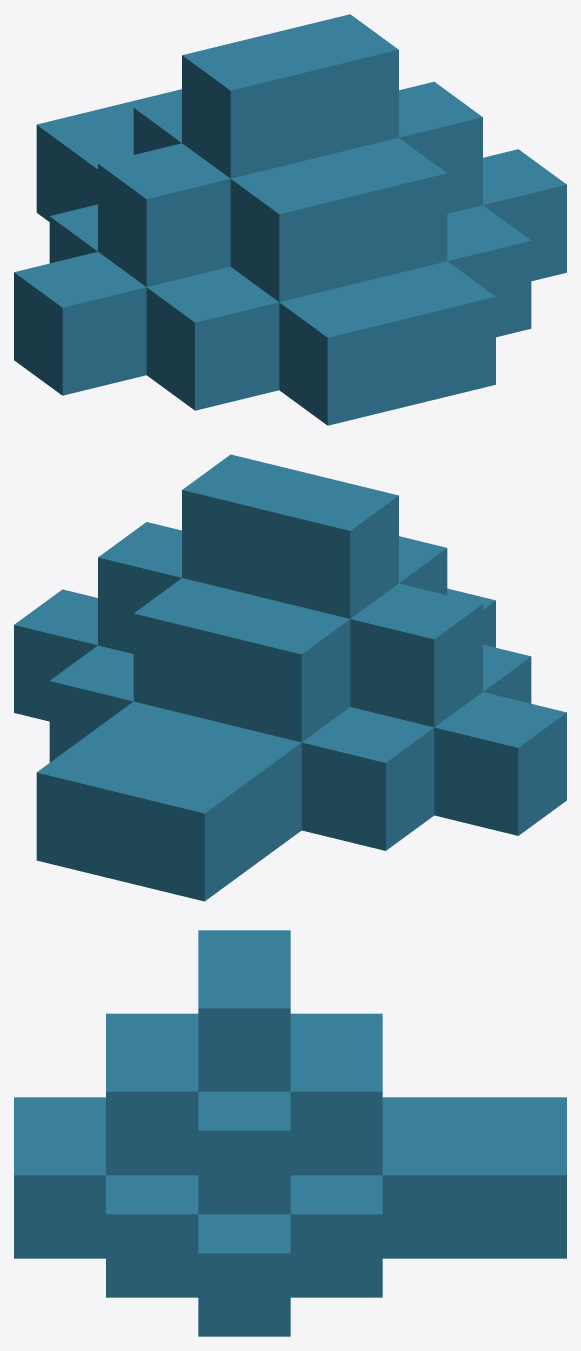
File: bullet.obj
3 renders of one model, top to bottom at view 1: azimuth 30°, elevation 25°; view 2: azimuth 150°, elevation 25°; view 3: azimuth 270°, elevation 25°, orthographic. The views are drawn at different scales.
Visible parts, largest first — view 1: bullet; view 2: bullet; view 3: bullet.
Part boxes in pixels (x1,y1,x2,y2): bullet: [14, 14, 566, 425]; bullet: [14, 454, 566, 901]; bullet: [14, 930, 566, 1336].
Size of the model in its own units: 6 by 3 by 6.
Materials: 1 (1 with a texture image).
